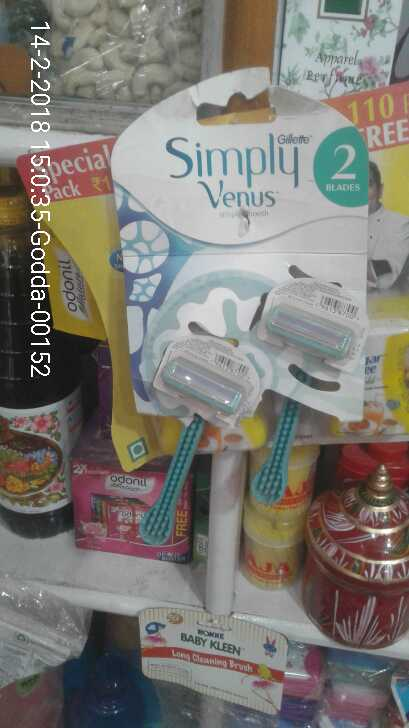venus: (136, 328, 259, 560), (259, 277, 372, 518)
